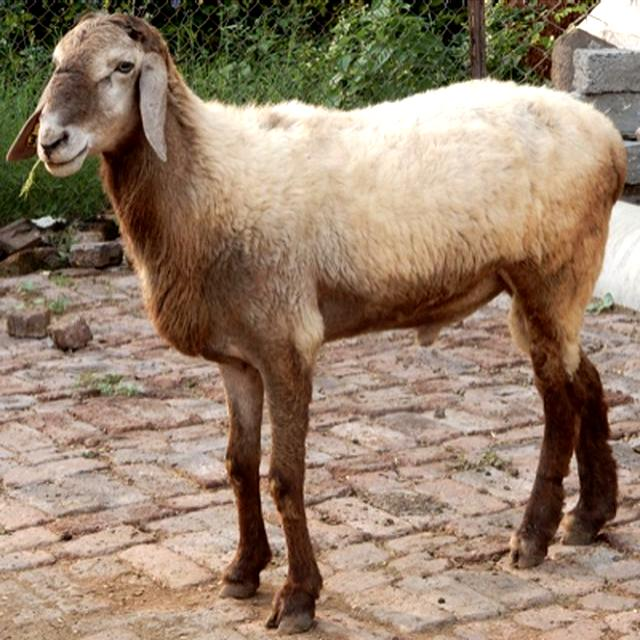sheep: (5, 16, 632, 635)
